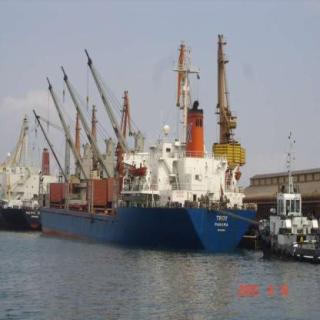Bulk Carrier: (18, 40, 264, 248)
